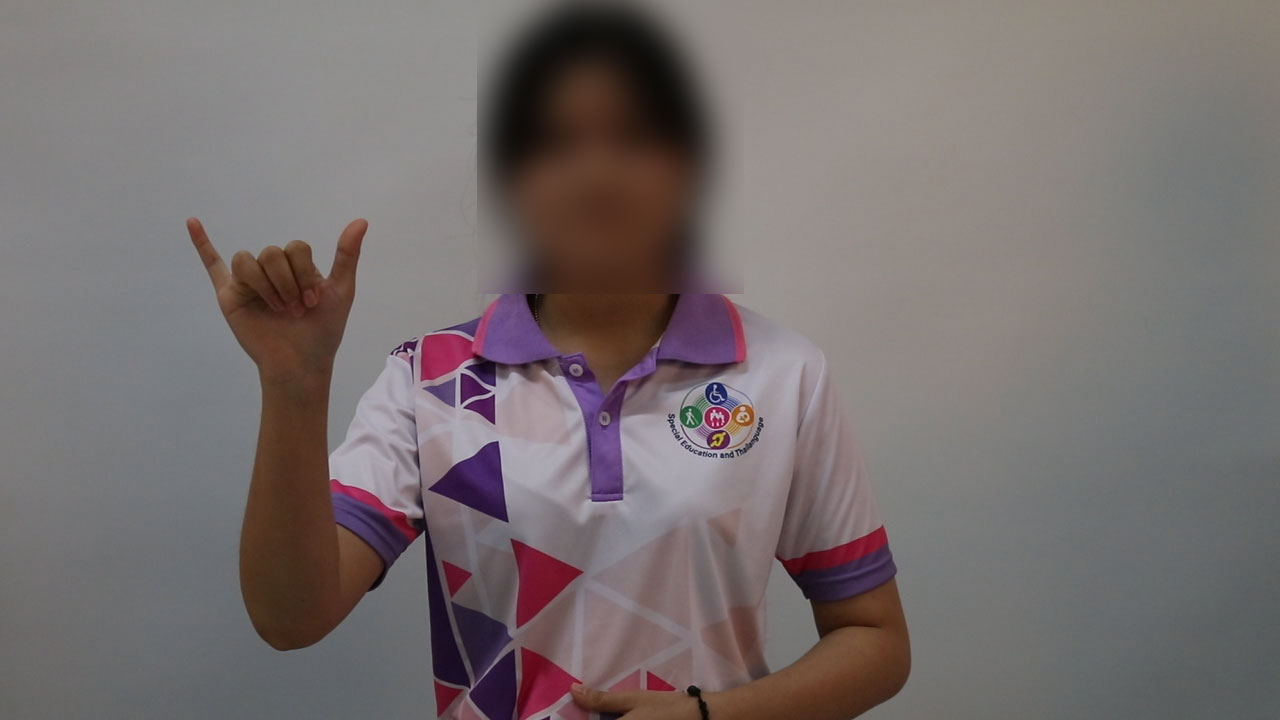yor: (178, 201, 391, 409)
